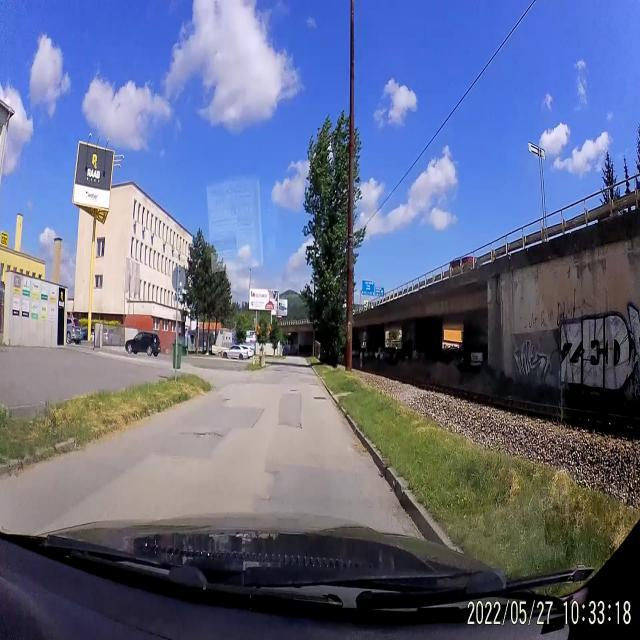Manhole: (312, 392, 328, 403)
Pothole: (186, 426, 223, 444), (288, 385, 302, 394), (223, 393, 232, 404)
